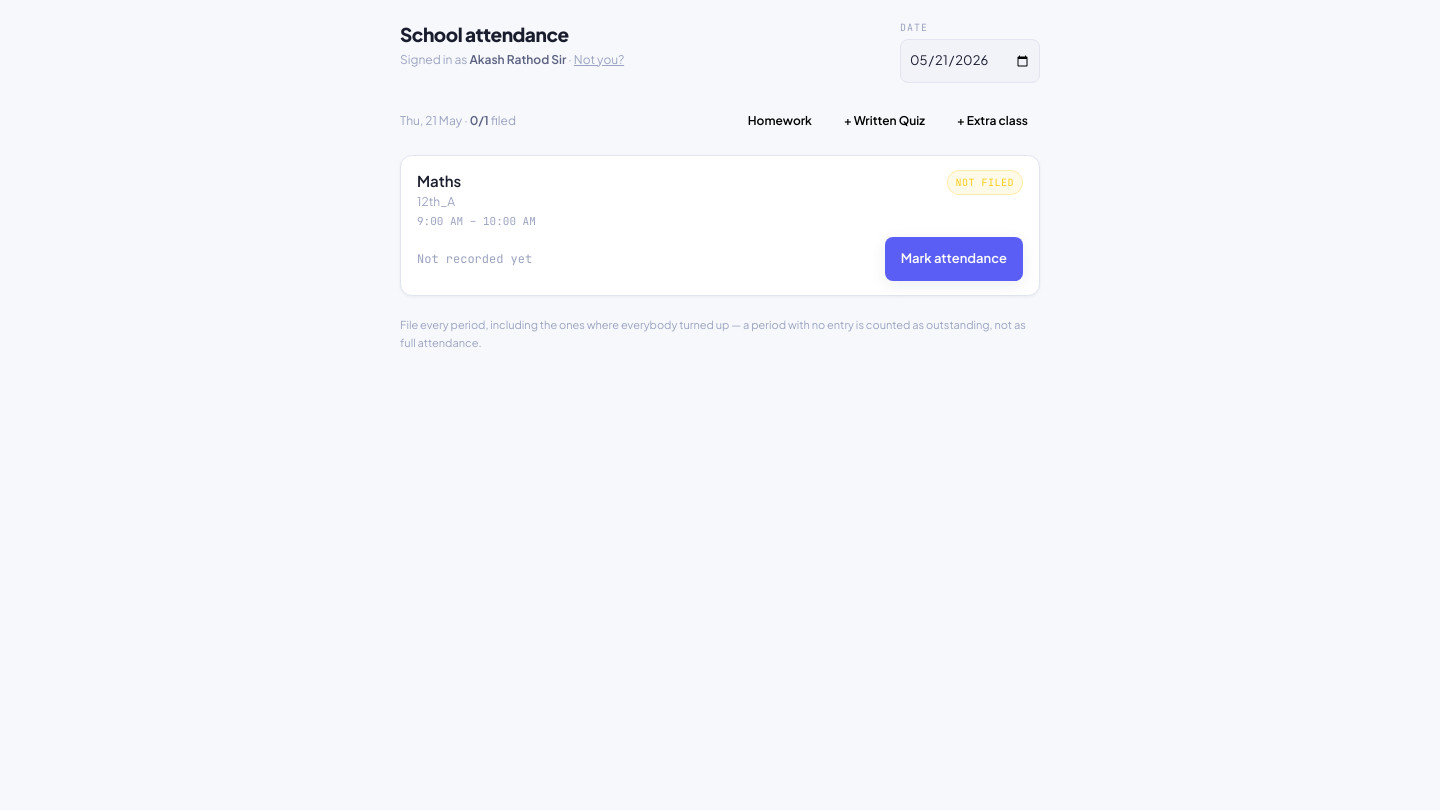
Test case: SchoolAttendancePage — extra (impromptu) classes › does not follow the teacher to another date
Step 1. Click the button with aria-label "add an extra class" → (992, 121), box [945,99,1040,143]
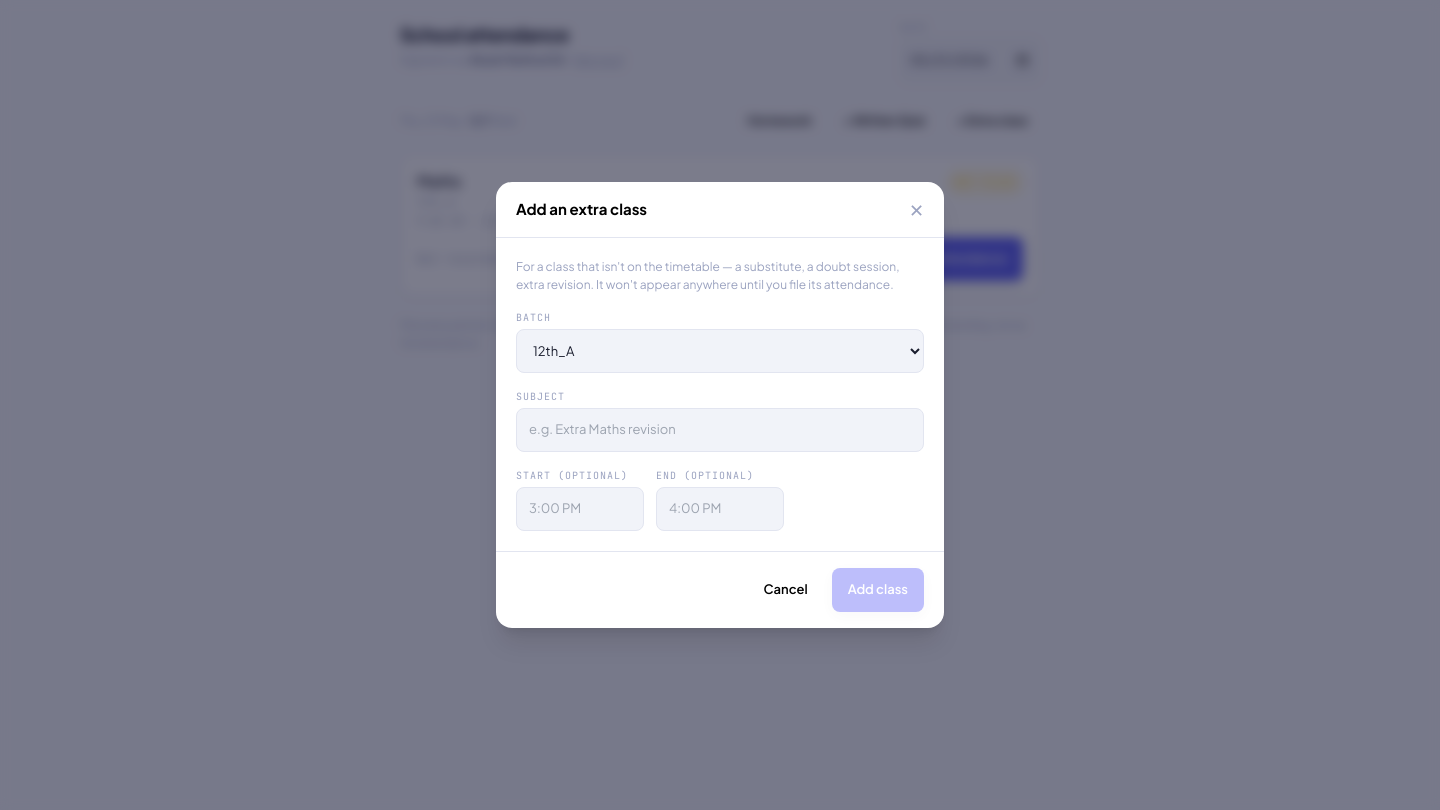
Step 2. Type "Doubt session" into the field labelled "Subject" → (720, 430), box [516,408,924,452]
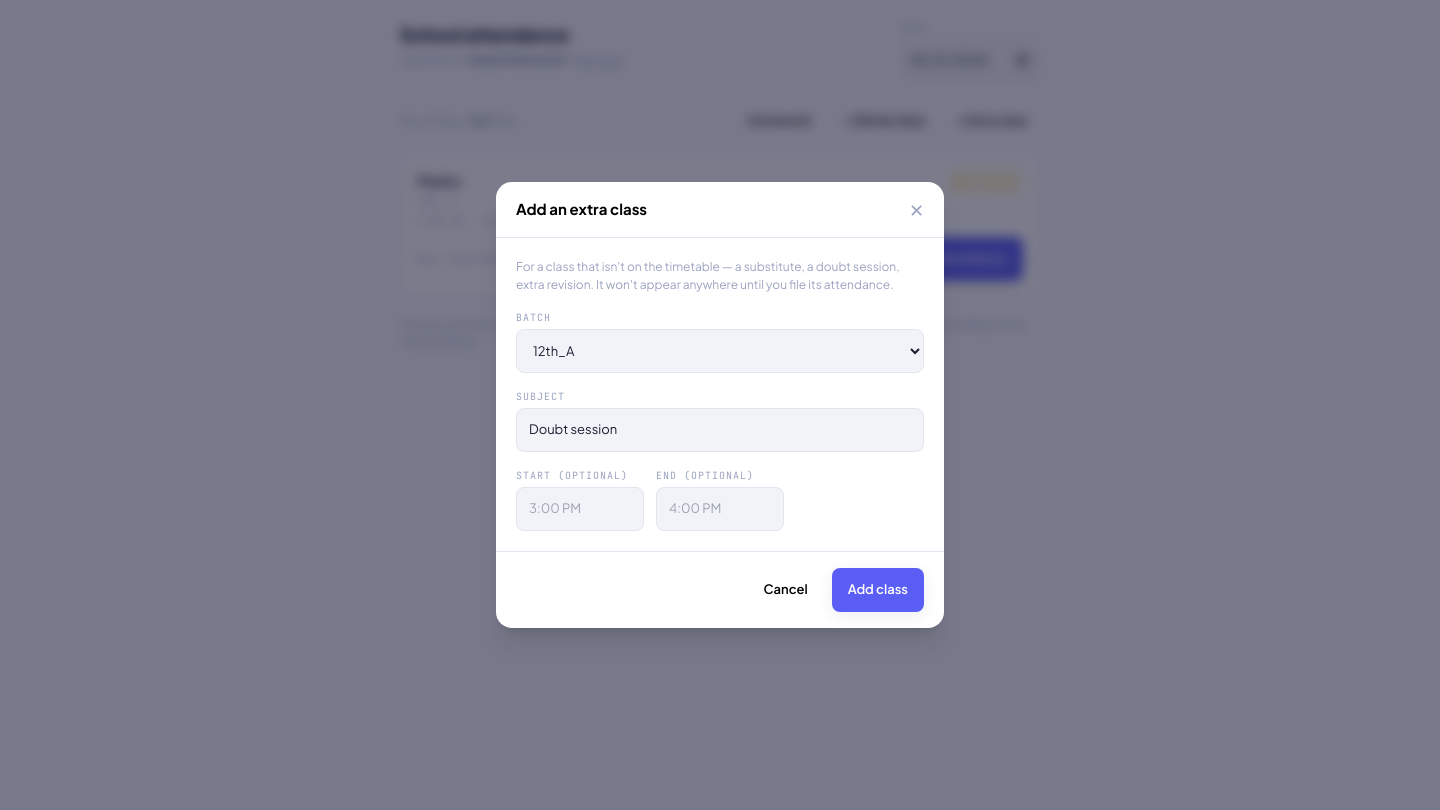
Step 3. Click the button "Add class" → (878, 590), box [832,568,924,612]
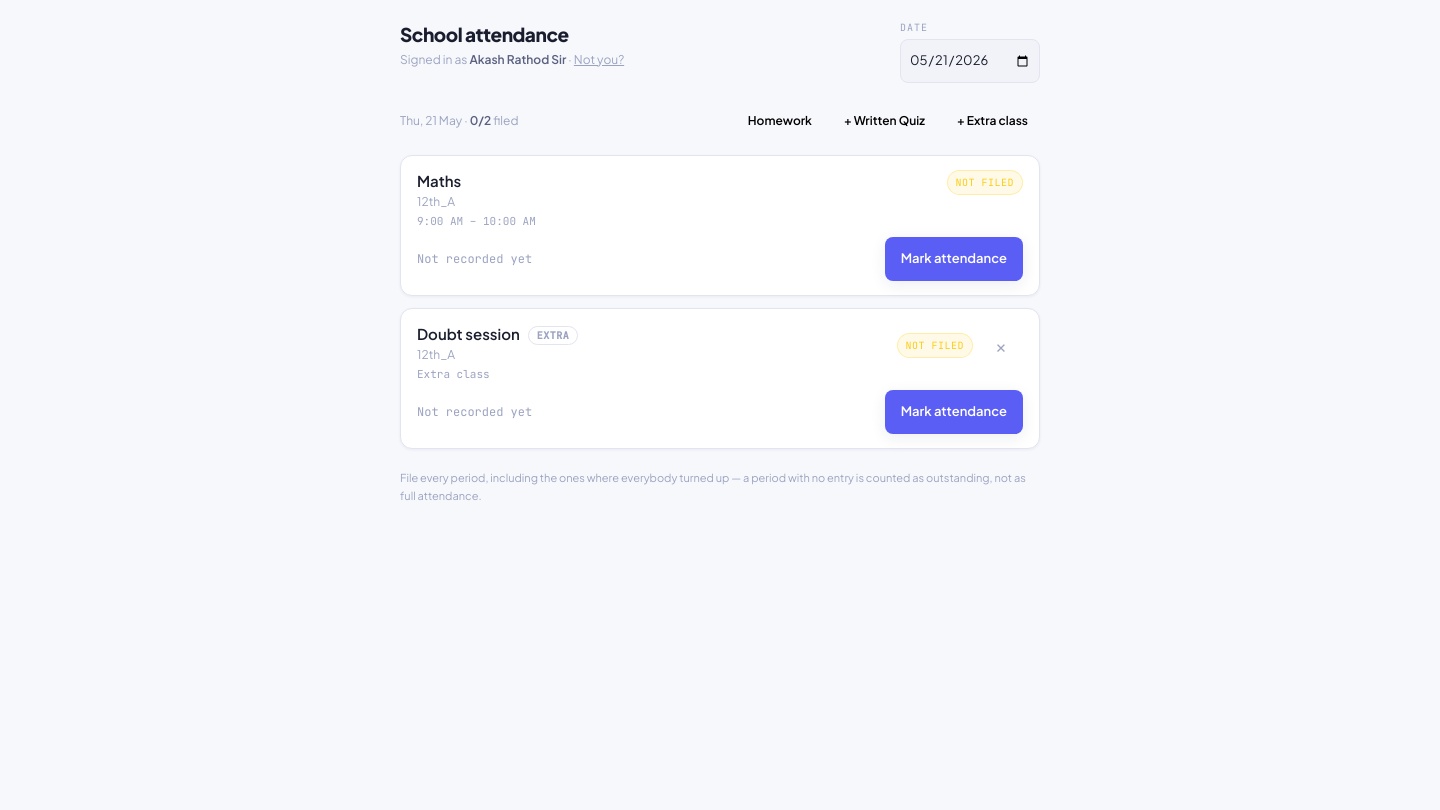
Expected: the text "Doubt session" is shown, [417,324,520,343]
Step 4. Type "2026-05-22" into the date field labelled "Date" → (970, 61), box [900,39,1040,83]
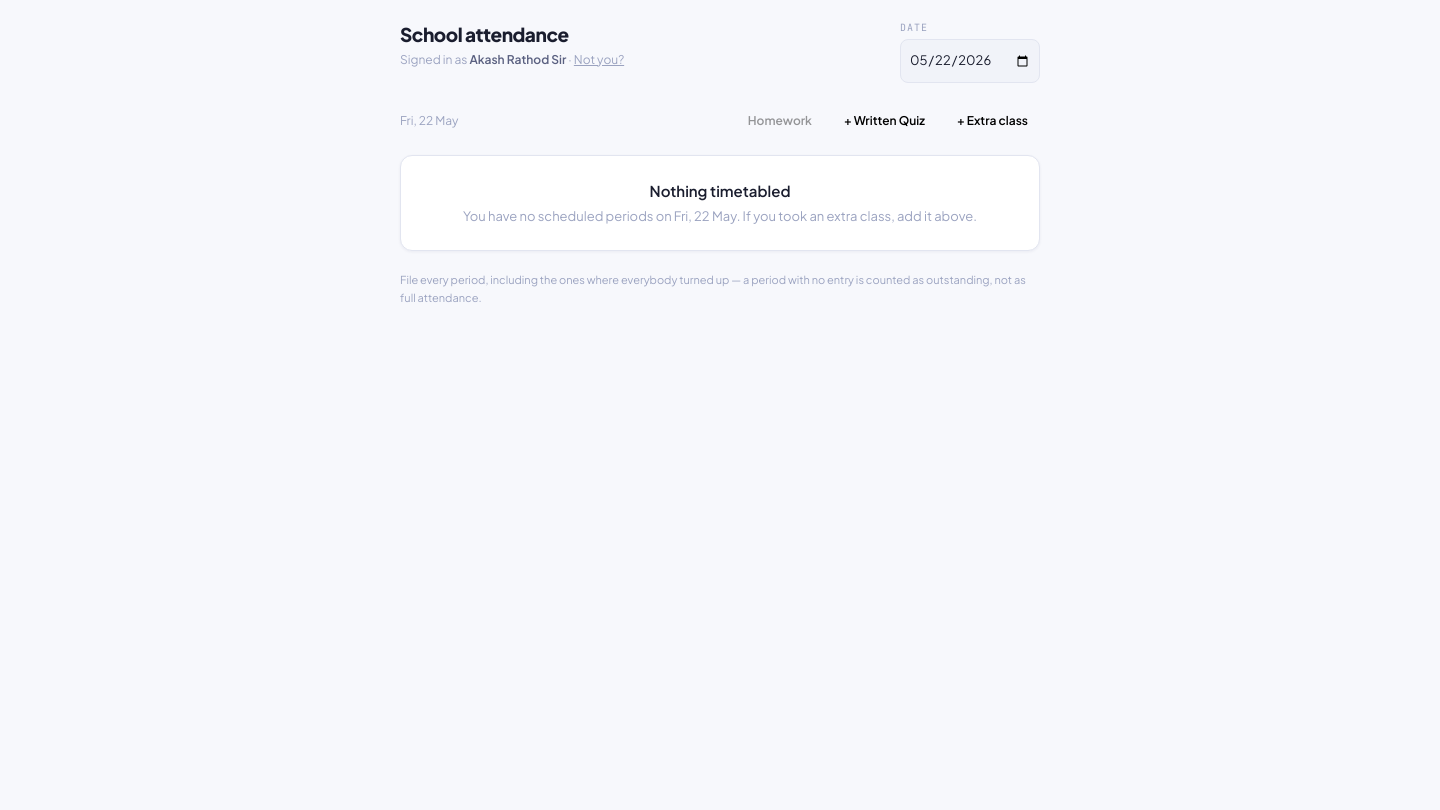
Expected: the text "Doubt session" is gone
